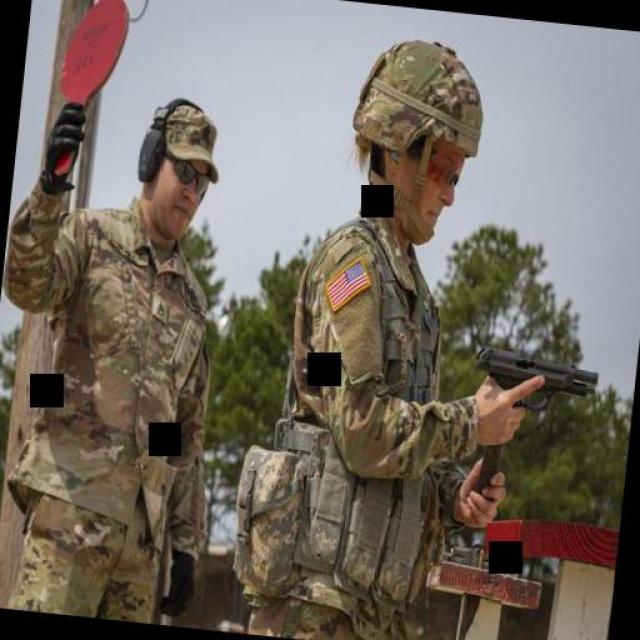gun: (465, 333, 603, 435)
